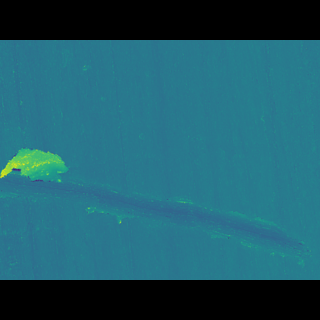Loch: (0, 147, 317, 237), (0, 148, 76, 179)
